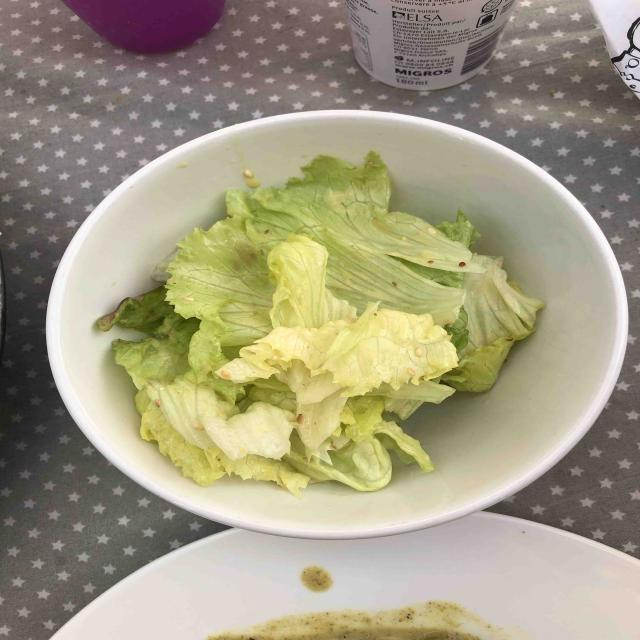salad: (117, 152, 529, 489)
